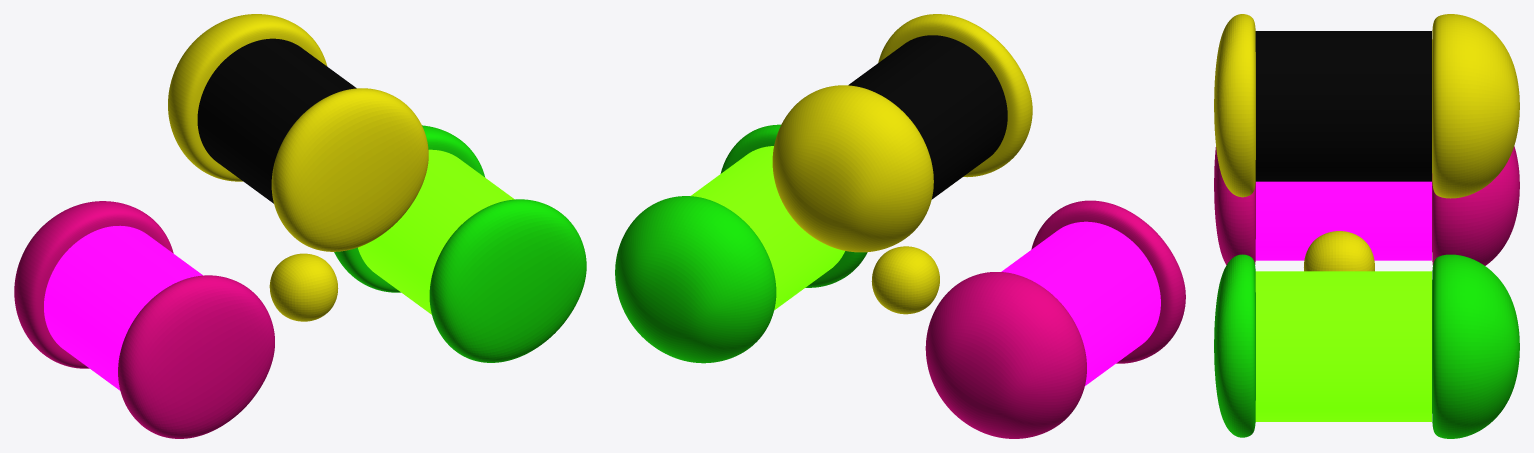
File: 2_1_Orbes_Ro_Ver.fbx
The picture shows the model from 3 angles, left to right: view 1: azimuth 30°, elevation 25°; view 2: azimuth 150°, elevation 25°; view 3: azimuth 270°, elevation 25°; orthographic projection. The views are drawn at different scales.
Parts seen in each view (by area): view 1: Cubo; view 2: Cubo; view 3: Cubo.
Part boxes in pixels (x1=…): Cubo: x1=14, y1=14, x2=586, y2=438; Cubo: x1=615, y1=14, x2=1185, y2=438; Cubo: x1=1214, y1=14, x2=1519, y2=438.
Bounding box in the file's own units: 73.32 × 46.6 × 39.58.
